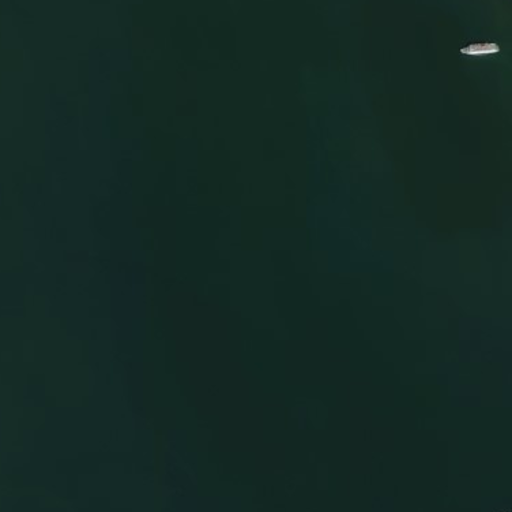ship: (457, 39, 503, 58)
